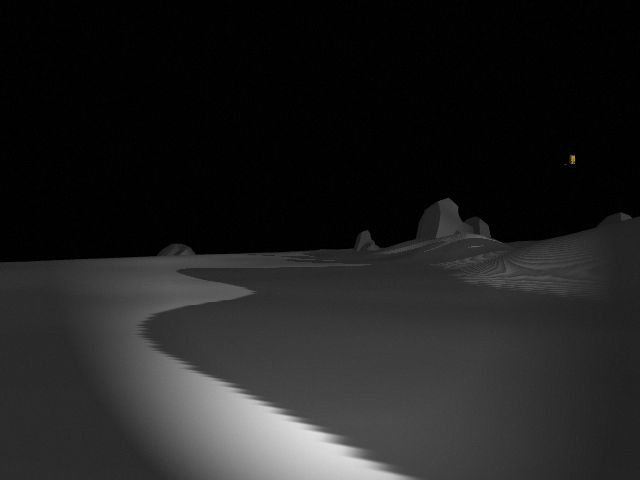cubesat: (562, 152, 577, 167)
